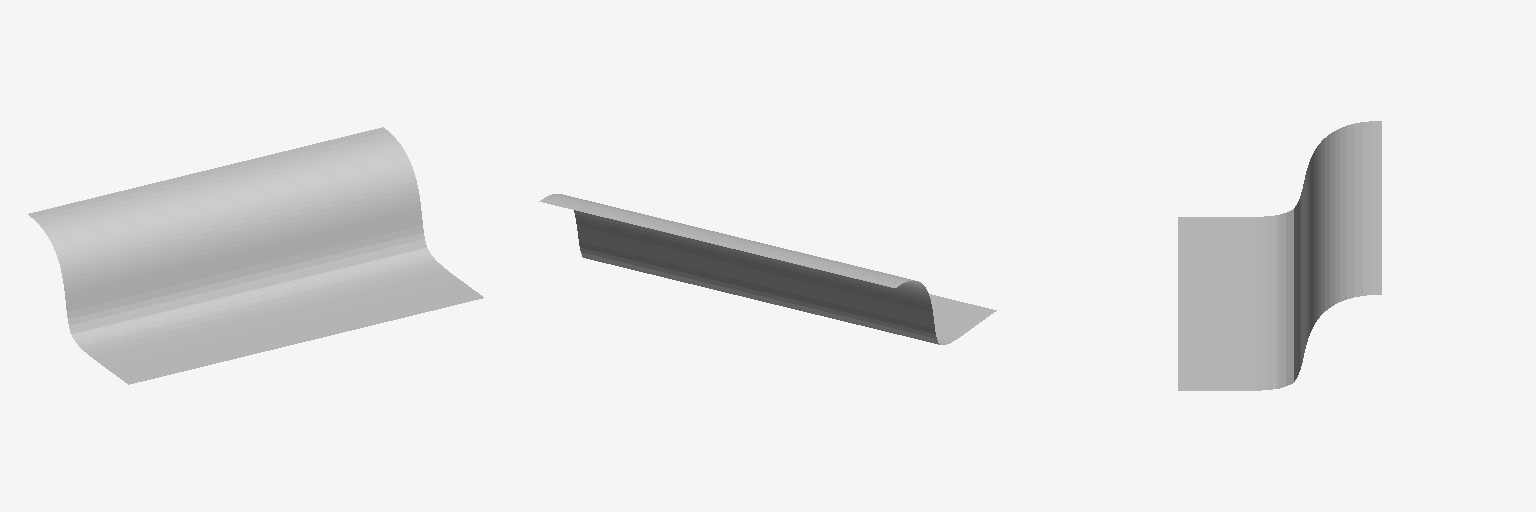
Rendered from Mockup Cat Food_polymsh.obj.
3 views of the same model, side by side, from view 1: azimuth 30°, elevation 25°; view 2: azimuth 150°, elevation 25°; view 3: azimuth 270°, elevation 25° (orthographic).
Parts seen in each view (by area): view 1: polymsh; view 2: polymsh; view 3: polymsh.
Boxes of the visible parts, x1,y1,x2,y2 form: polymsh: [28, 127, 483, 384]; polymsh: [539, 194, 996, 344]; polymsh: [1178, 121, 1381, 390].
Size of the model in its own units: 3091 by 799 by 1528.